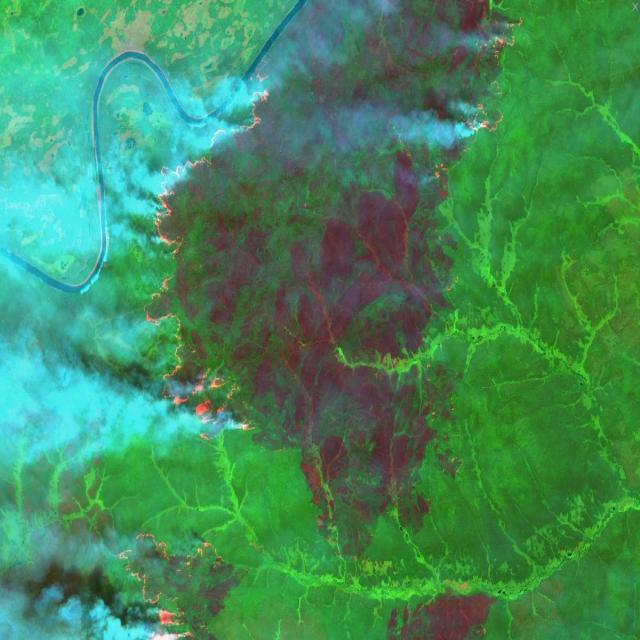fire: (138, 66, 274, 451), (427, 0, 525, 189), (111, 513, 226, 640), (410, 349, 469, 494)
